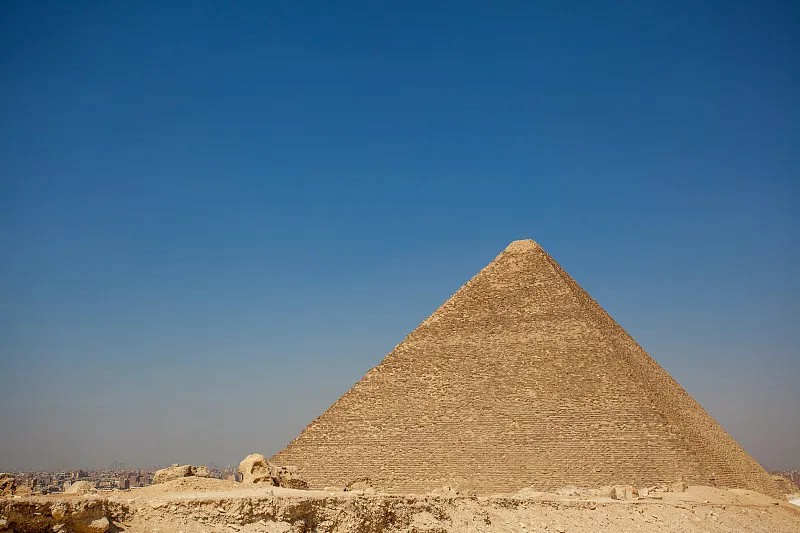Pyramid: (271, 239, 785, 499)
